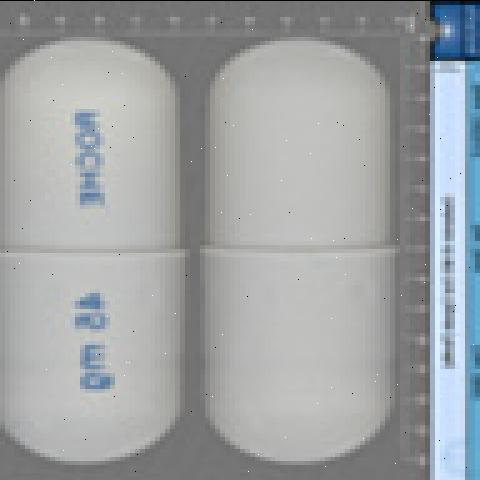Pill: (193, 16, 408, 478), (1, 16, 194, 470)
